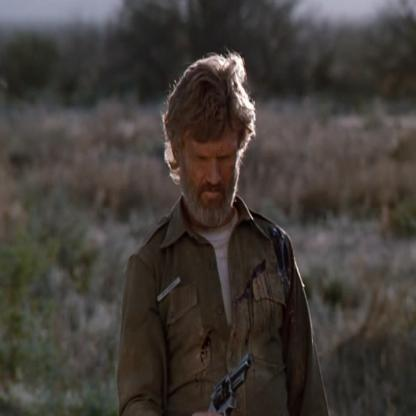gun: (215, 324, 264, 416)
